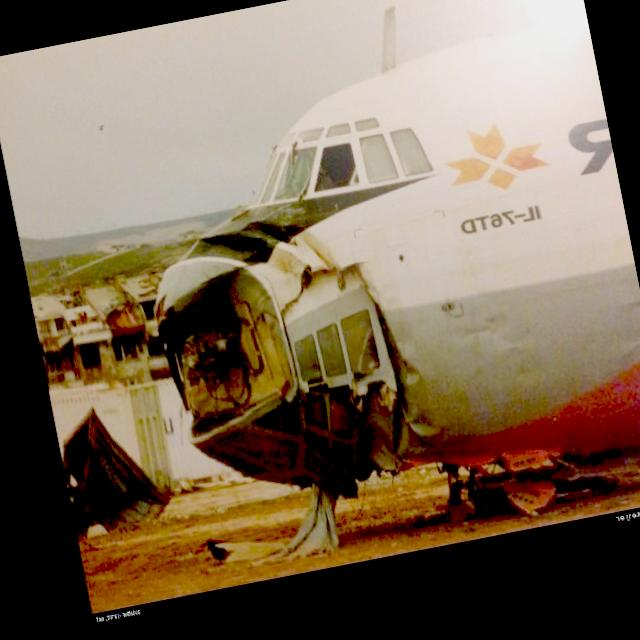dent: (395, 360, 442, 440)
